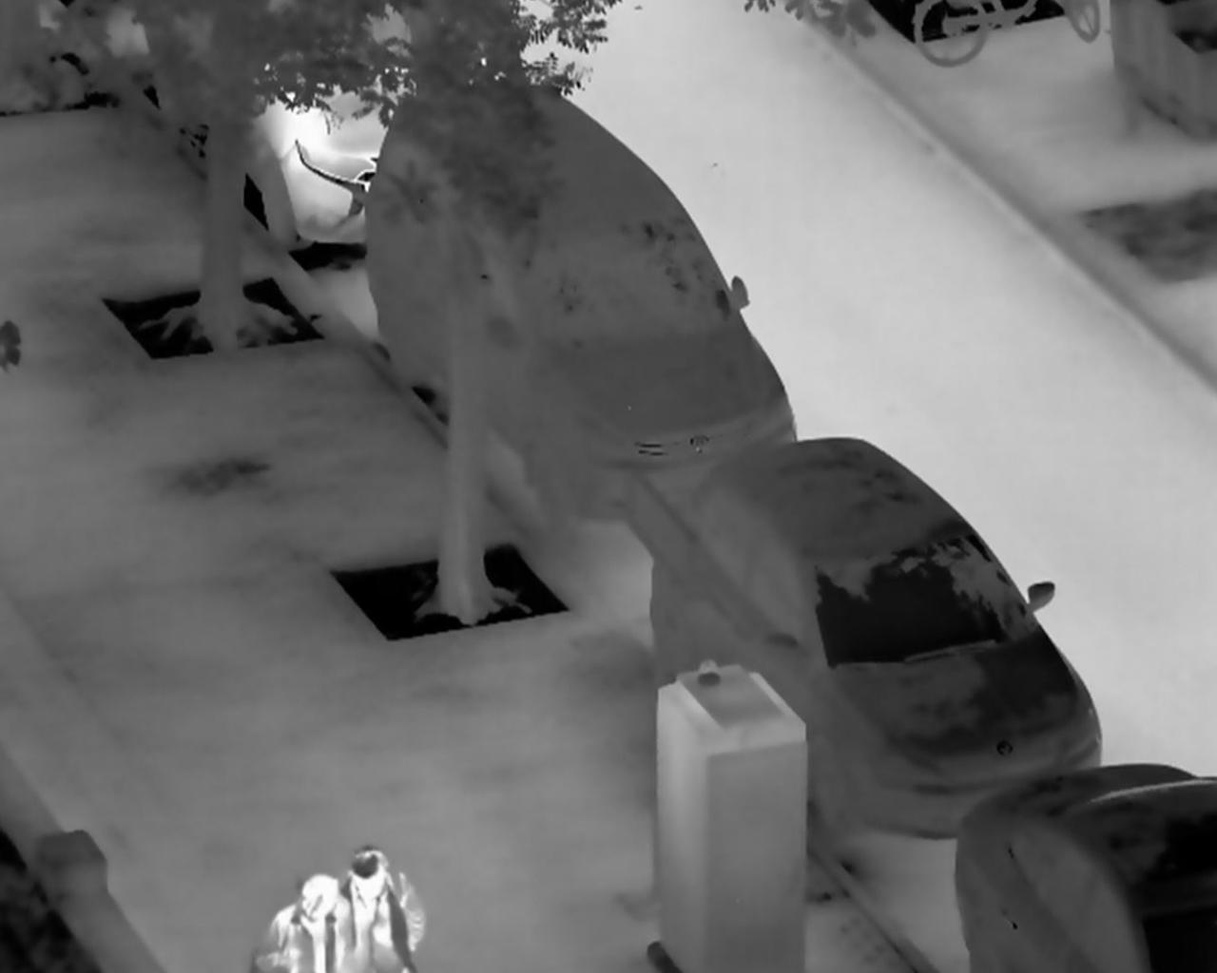person: (338, 841, 426, 973), (252, 869, 356, 973)
